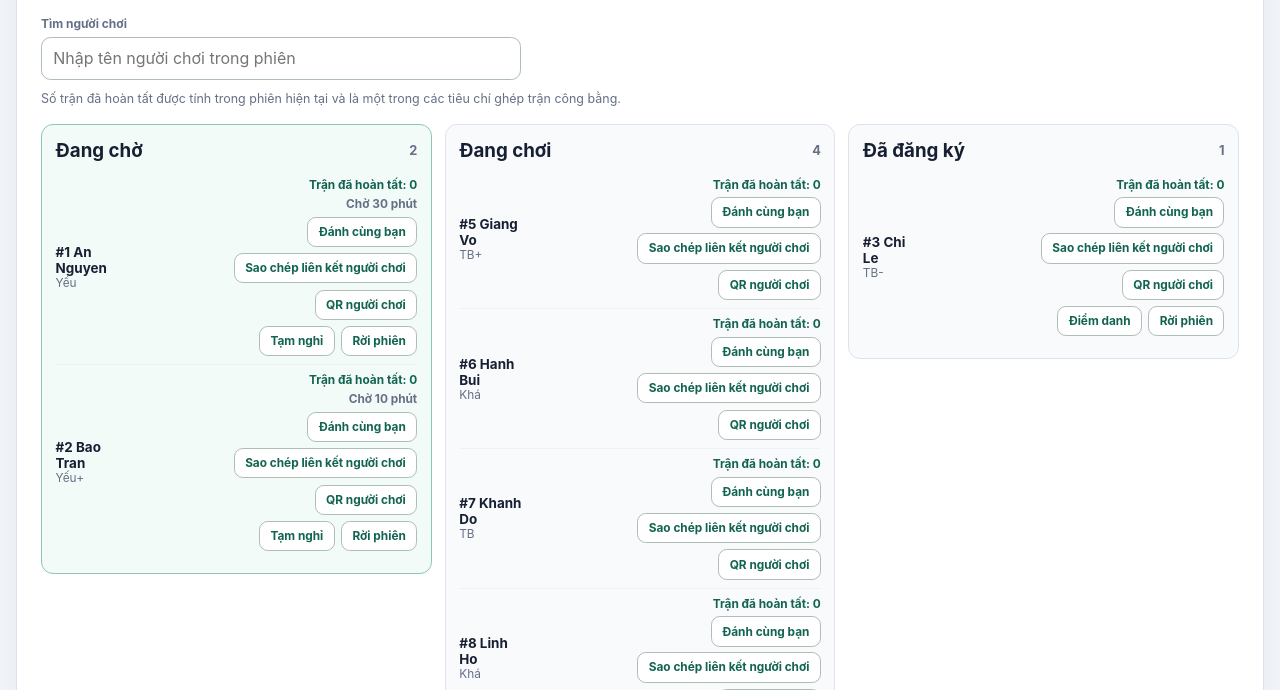
Test case: Participant live actions › reconciles Participants and shows scoped feedback after a 409
(page scrolled)
Click the button "Tạm nghỉ" below "Chờ 30 phút".
click(297, 341)  # box [259,326,335,356]
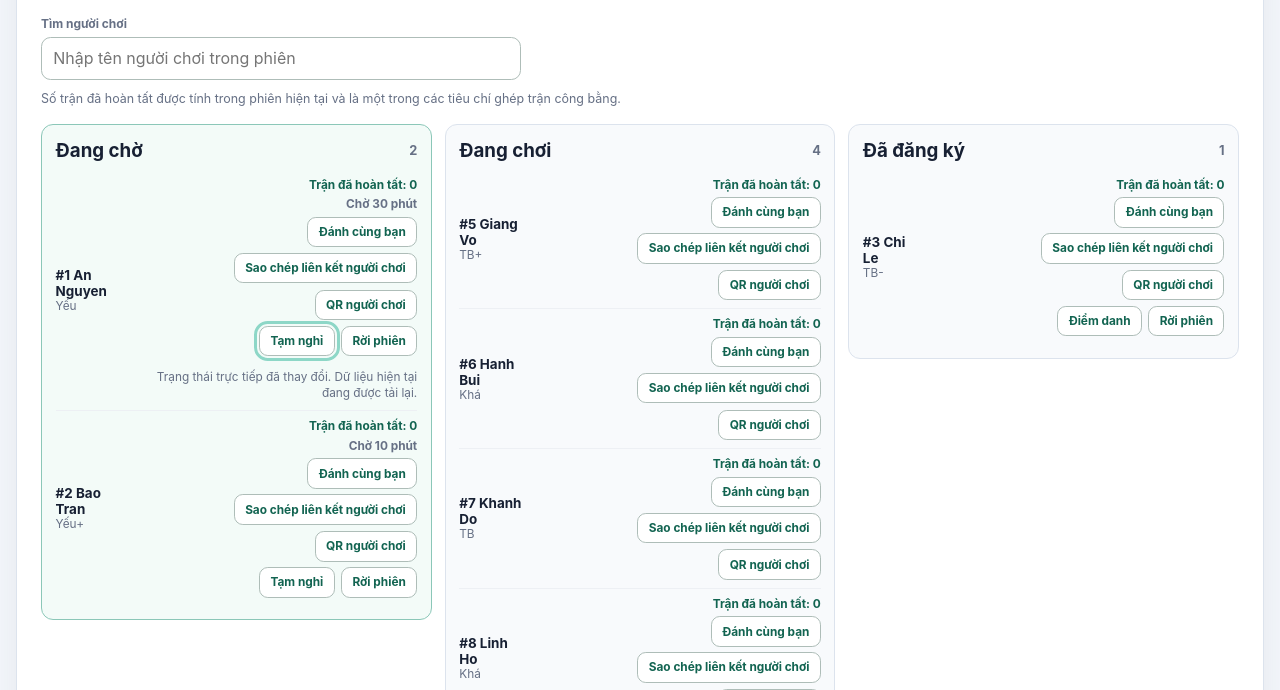
Expected: the message reads "Trạng thái trực tiếp đã thay đổi. Dữ liệu hiện tại đang được tải lại.", [157,370,417,400]
